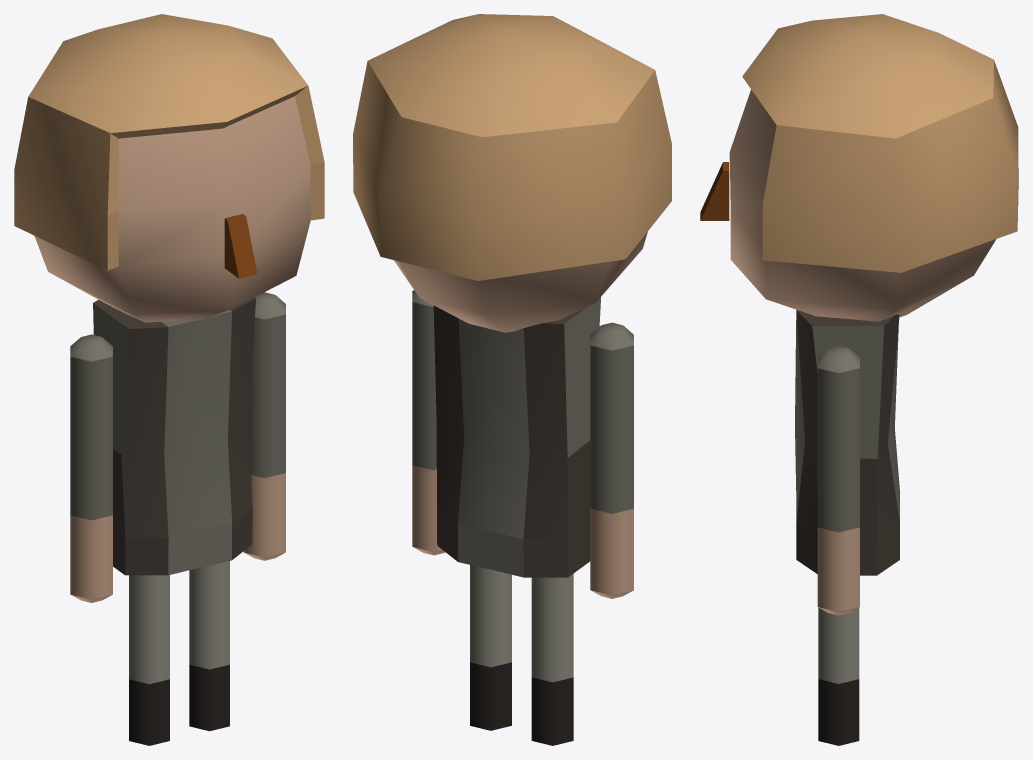
Rendered from Villager_1.FBX.
3 views of the same model, side by side, from view 1: azimuth 30°, elevation 25°; view 2: azimuth 150°, elevation 25°; view 3: azimuth 270°, elevation 25° (orthographic). The views are drawn at different scales.
Visible parts, largest first — view 1: Box042; view 2: Box042; view 3: Box042.
Part boxes in pixels (left/top/right/bottom): Box042: left=14, top=14, right=324, bottom=745; Box042: left=353, top=14, right=671, bottom=745; Box042: left=700, top=14, right=1018, bottom=745.
Size of the model in its own units: 32.63 by 80.16 by 33.69.
